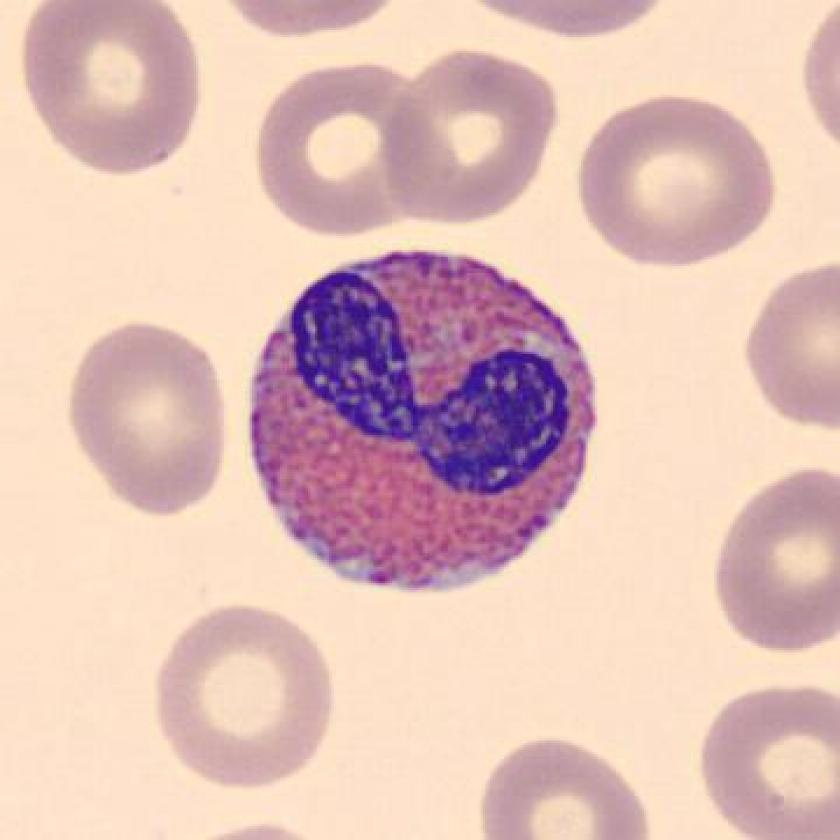eosinophil: (242, 242, 613, 603), (766, 413, 769, 415)
